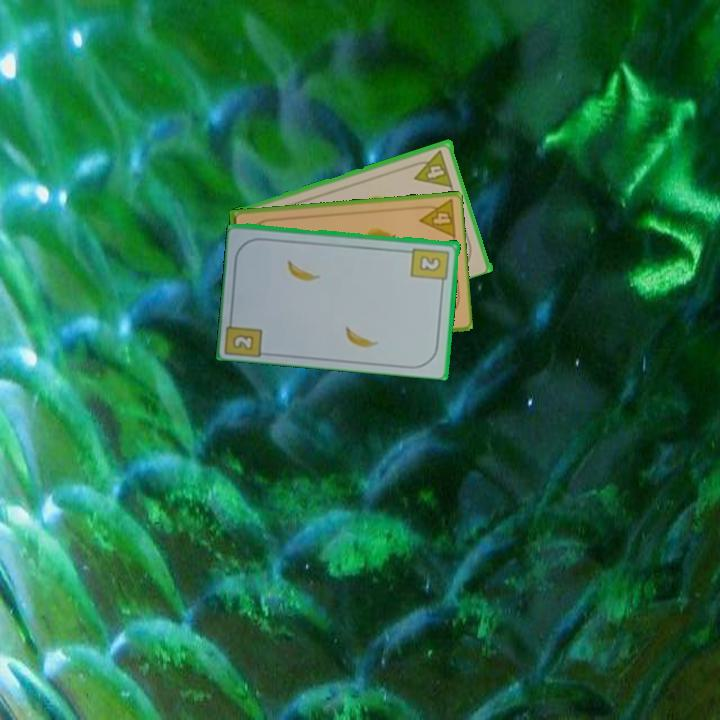2b: (224, 311, 266, 358), (408, 244, 452, 288)
4p: (408, 146, 455, 190), (413, 196, 458, 241)
